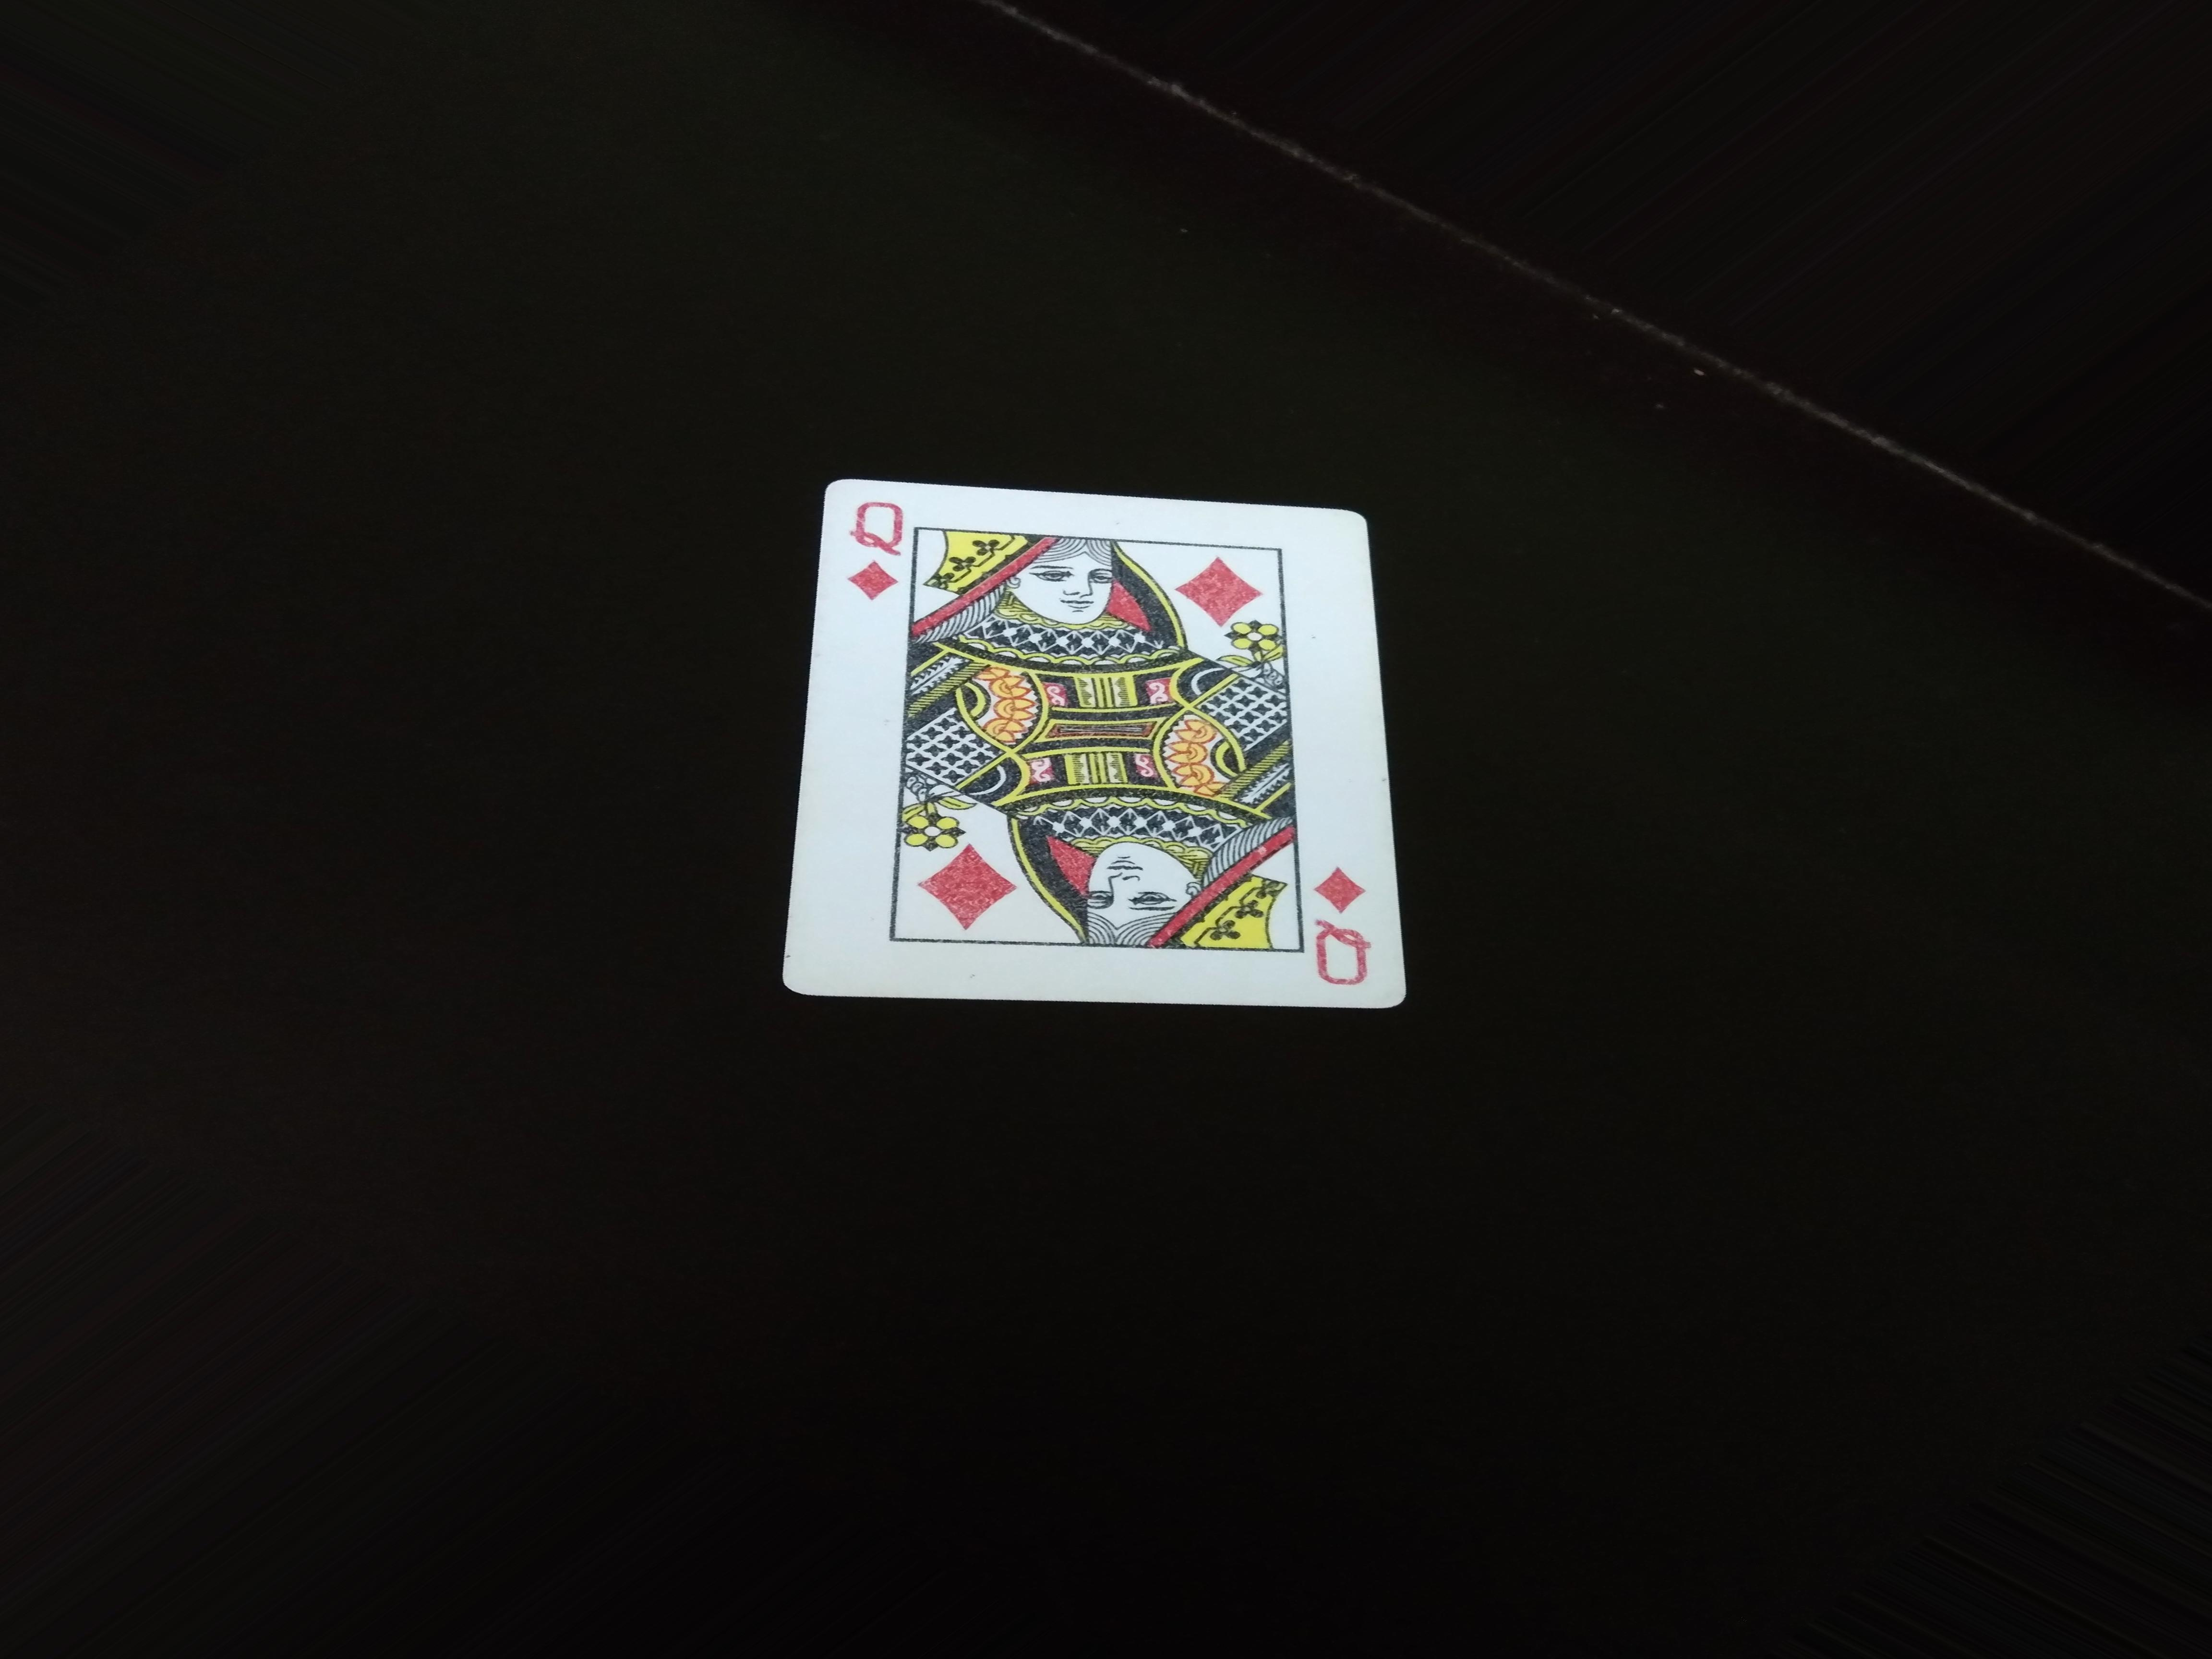QD: (843, 472, 904, 613)
